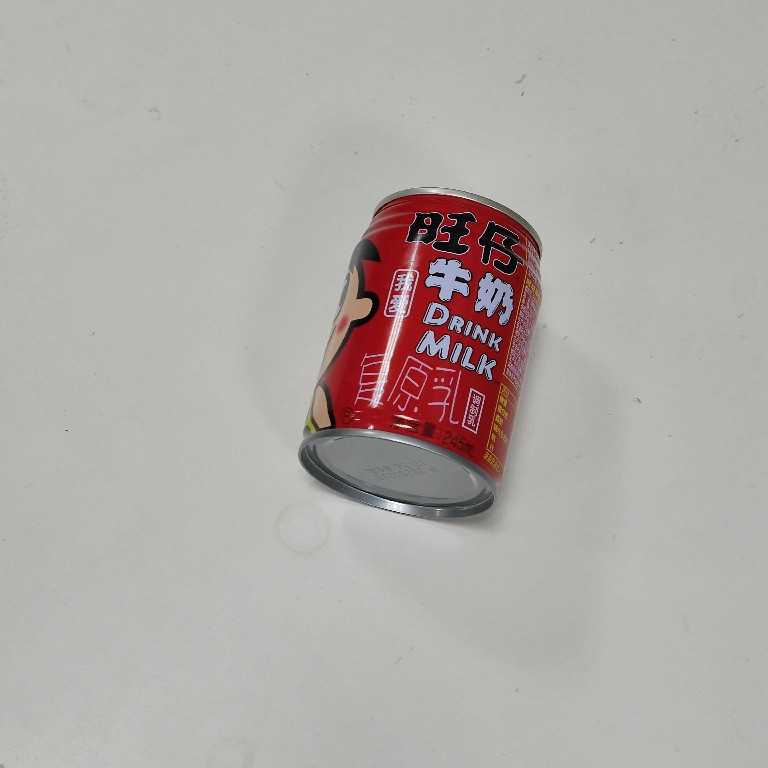can: (292, 183, 546, 522)
